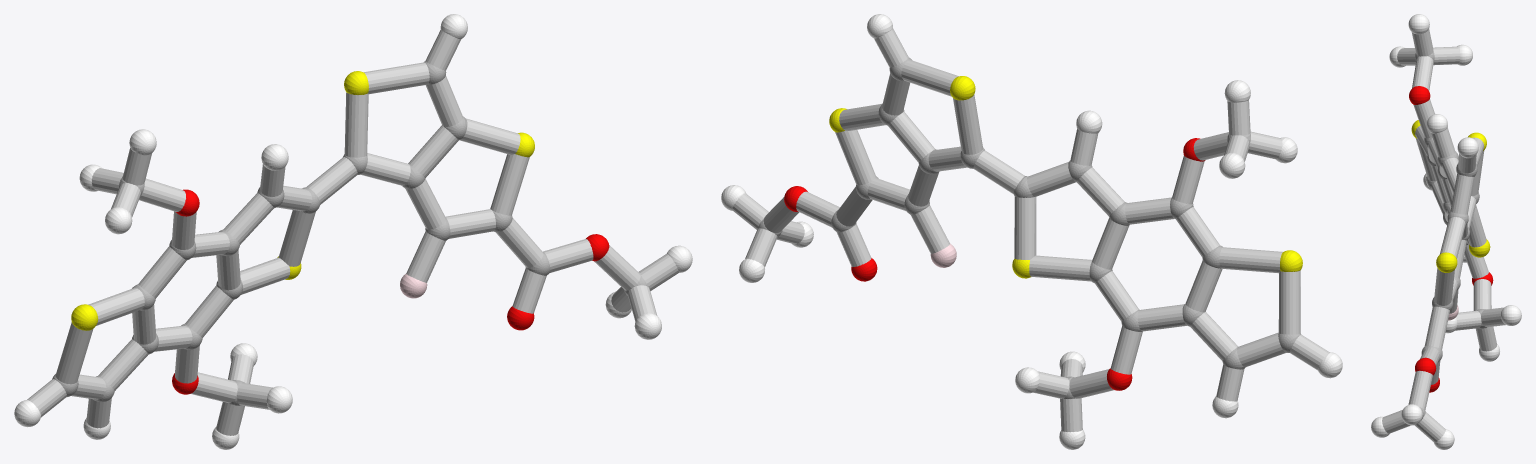
The model's file is color.glb.
The picture shows the model from 3 angles, left to right: view 1: azimuth 30°, elevation 25°; view 2: azimuth 150°, elevation 25°; view 3: azimuth 270°, elevation 25°; orthographic projection. The views are drawn at different scales.
Parts seen in each view (by area): view 1: grp15205, grp8689, grp1, grp7241, grp13395; view 2: grp15205, grp8689, grp1, grp7241, grp13395; view 3: grp15205, grp8689, grp1, grp7241, grp13395.
Boxes of the visible parts, x1,y1,x2,y2 form: grp15205: (27,29,678,435); grp8689: (14,14,692,449); grp1: (52,61,647,405); grp7241: (71,71,534,330); grp13395: (172,189,609,394); grp15205: (732,28,1328,432); grp8689: (721,14,1342,449); grp1: (757,57,1301,398); grp7241: (829,76,1302,278); grp13395: (784,138,1205,390); grp15205: (1382,29,1505,442); grp8689: (1371,14,1521,449); grp1: (1415,51,1486,416); grp7241: (1411,120,1490,272); grp13395: (1409,86,1493,392).
Size of the model in its own units: 16.7 by 9.45 by 4.25.
